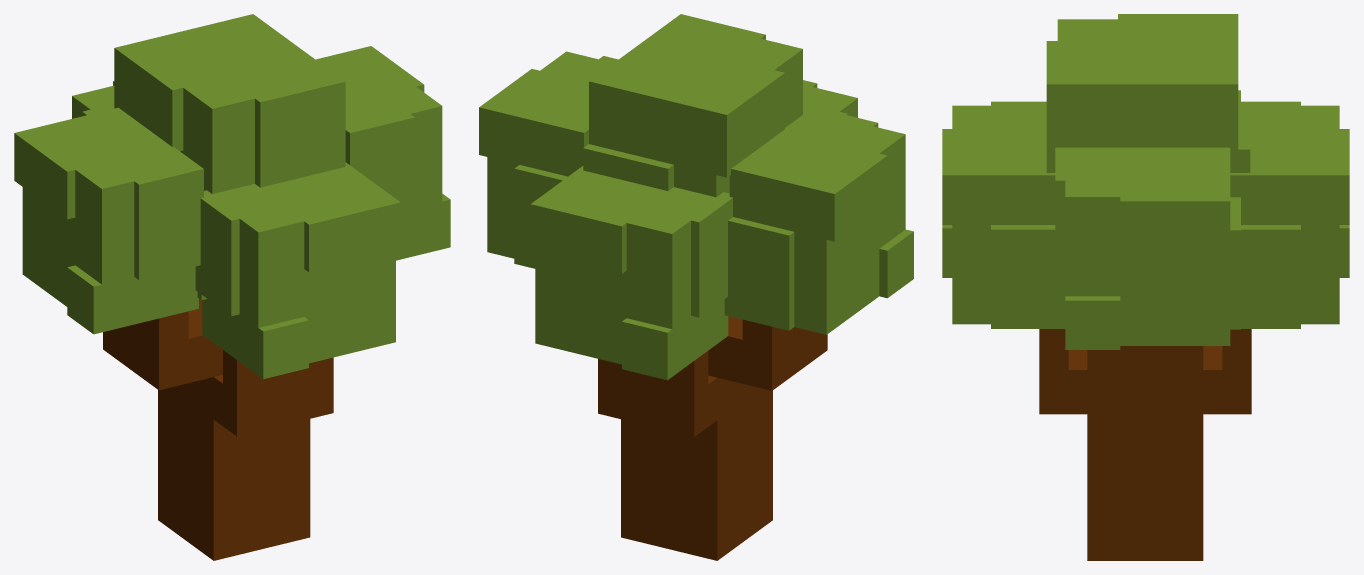
File: tree.fbx
3 renders of one model, left to right at view 1: azimuth 30°, elevation 25°; view 2: azimuth 150°, elevation 25°; view 3: azimuth 270°, elevation 25°, orthographic. The views are drawn at different scales.
Parts seen in each view (by area): view 1: leaf bunch.001, leaf bunch, tree, leaf bunch.002; view 2: leaf bunch.001, leaf bunch, tree, leaf bunch.002; view 3: leaf bunch, leaf bunch.001, tree, leaf bunch.002.
Part boxes in pixels (<box>): leaf bunch.001: <box>14,46,450,334</box>; leaf bunch: <box>72,81,400,379</box>; tree: <box>103,299,333,560</box>; leaf bunch.002: <box>114,14,345,300</box>; leaf bunch.001: <box>479,51,913,334</box>; leaf bunch: <box>530,80,857,380</box>; tree: <box>598,316,827,560</box>; leaf bunch.002: <box>583,14,802,197</box>; leaf bunch: <box>942,101,1349,328</box>; leaf bunch.001: <box>1055,90,1240,349</box>; tree: <box>1039,329,1251,560</box>; leaf bunch.002: <box>1046,14,1250,172</box>.
Size of the model in its own units: 369 by 461 by 351.
